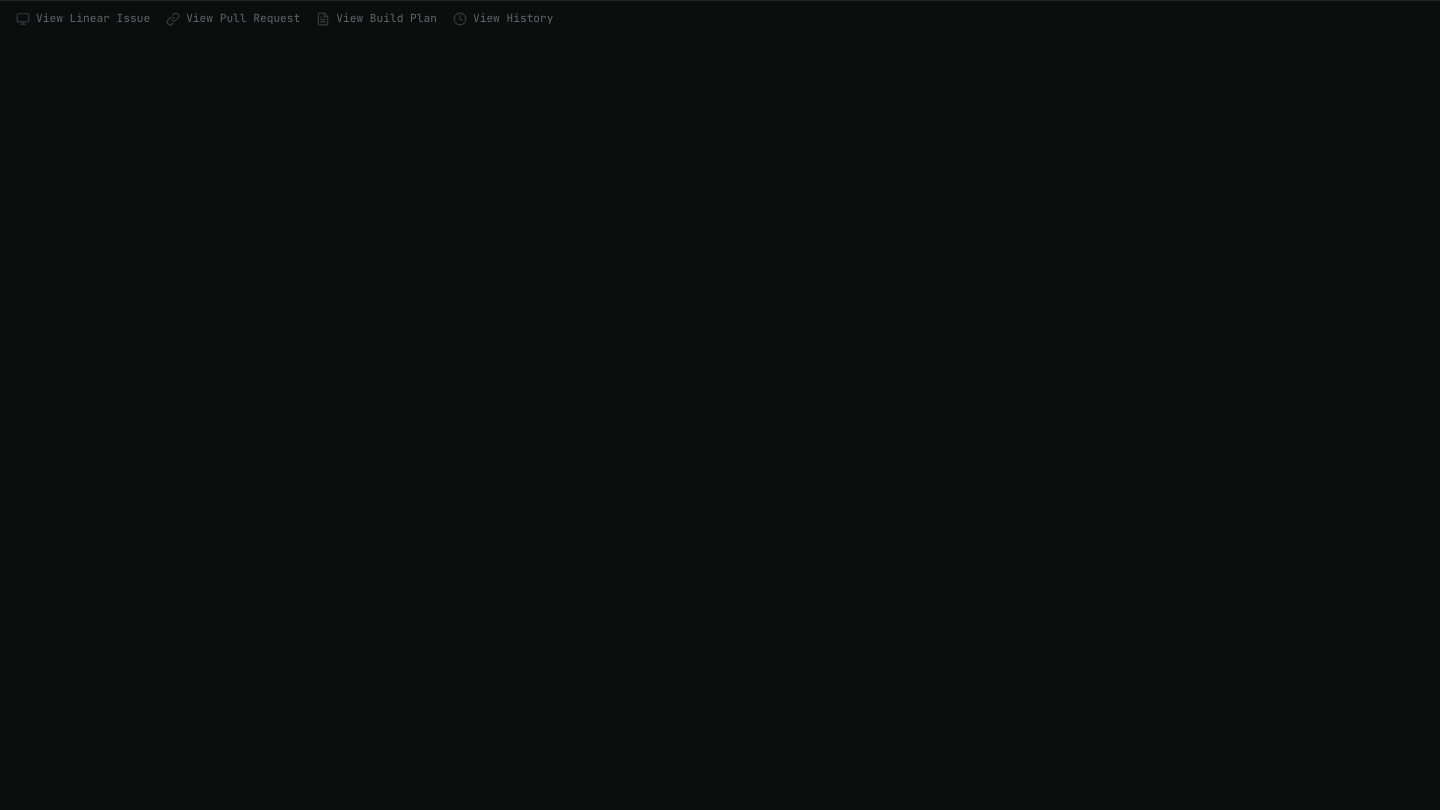
SessionArtifacts › does not show Copied! when a pending copy resolves after the modal was closed
Click the link "View Build Plan" at (377, 18), box [316,9,437,28]
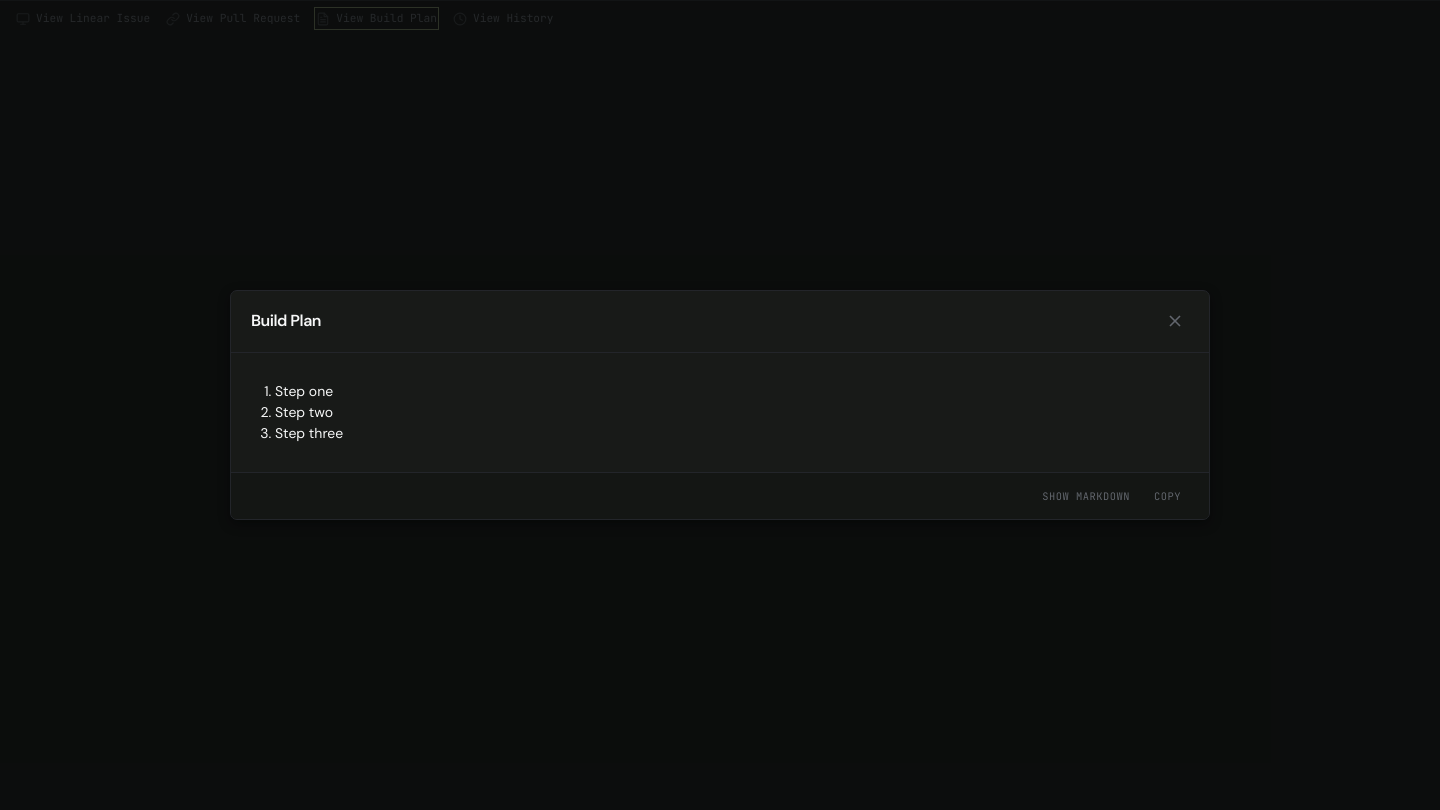
Click the button "Copy" at (1168, 496), box [1146,485,1189,507]
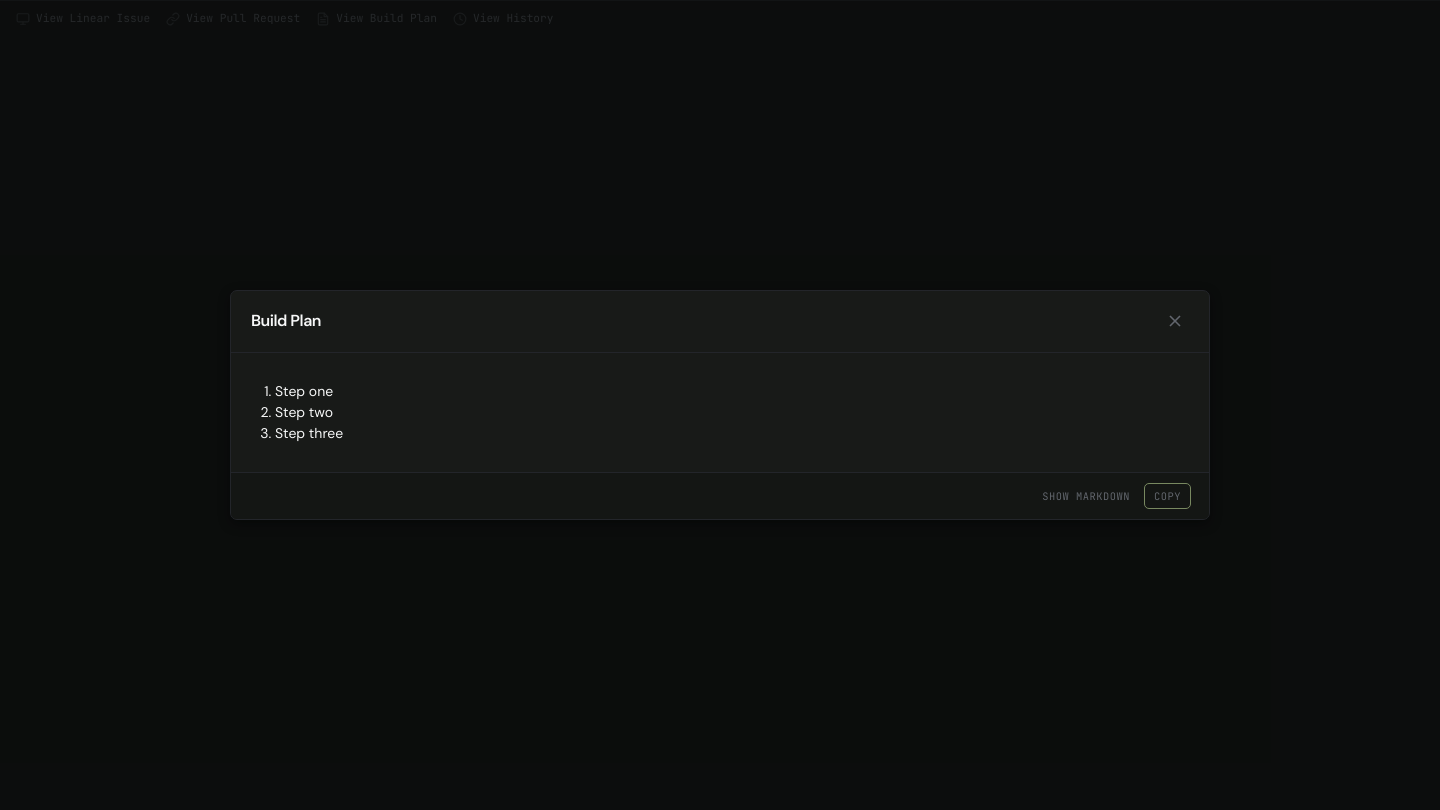
Click the button named "Close" at (1175, 322), box [1161,308,1189,336]
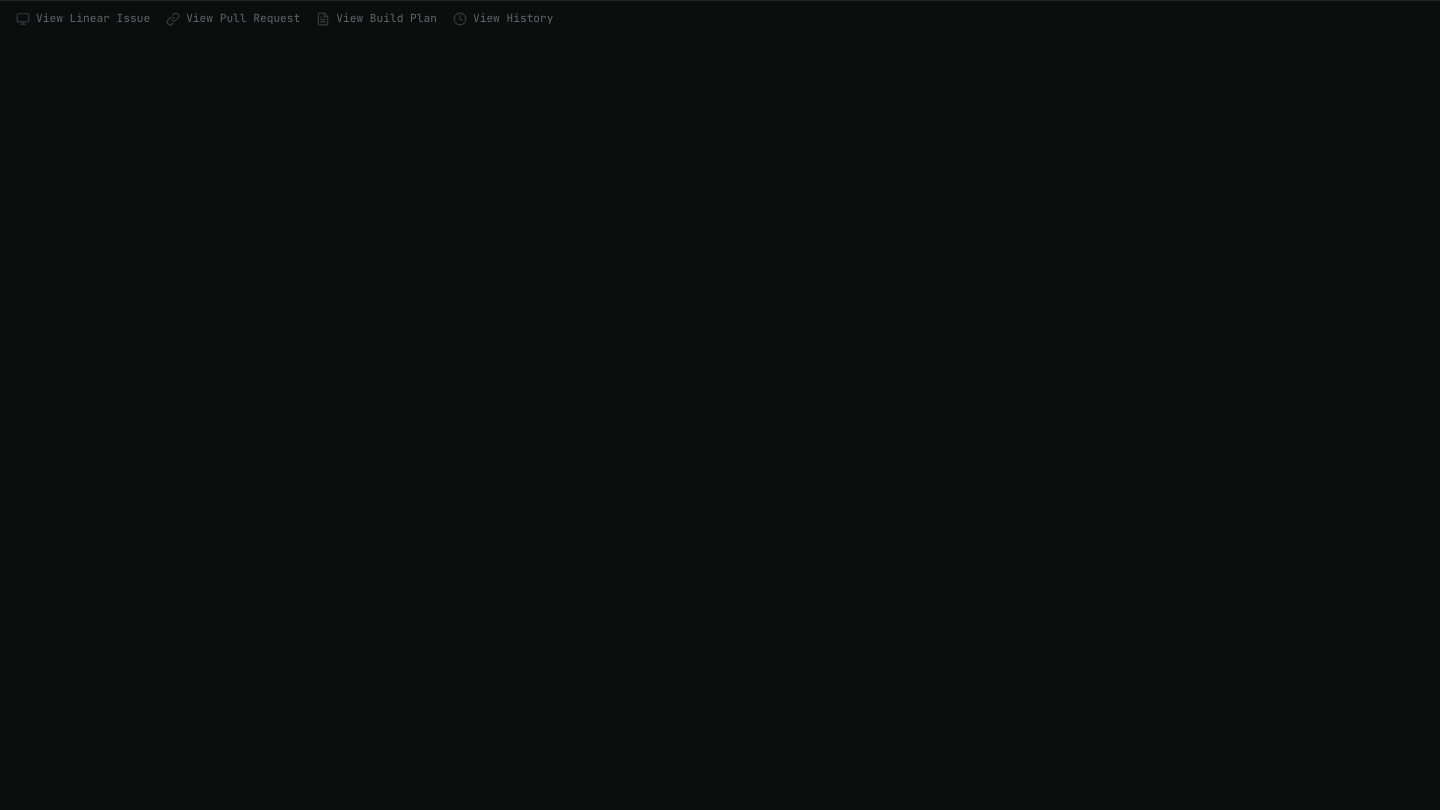
Click the link "View Build Plan" at (377, 18), box [316,9,437,28]
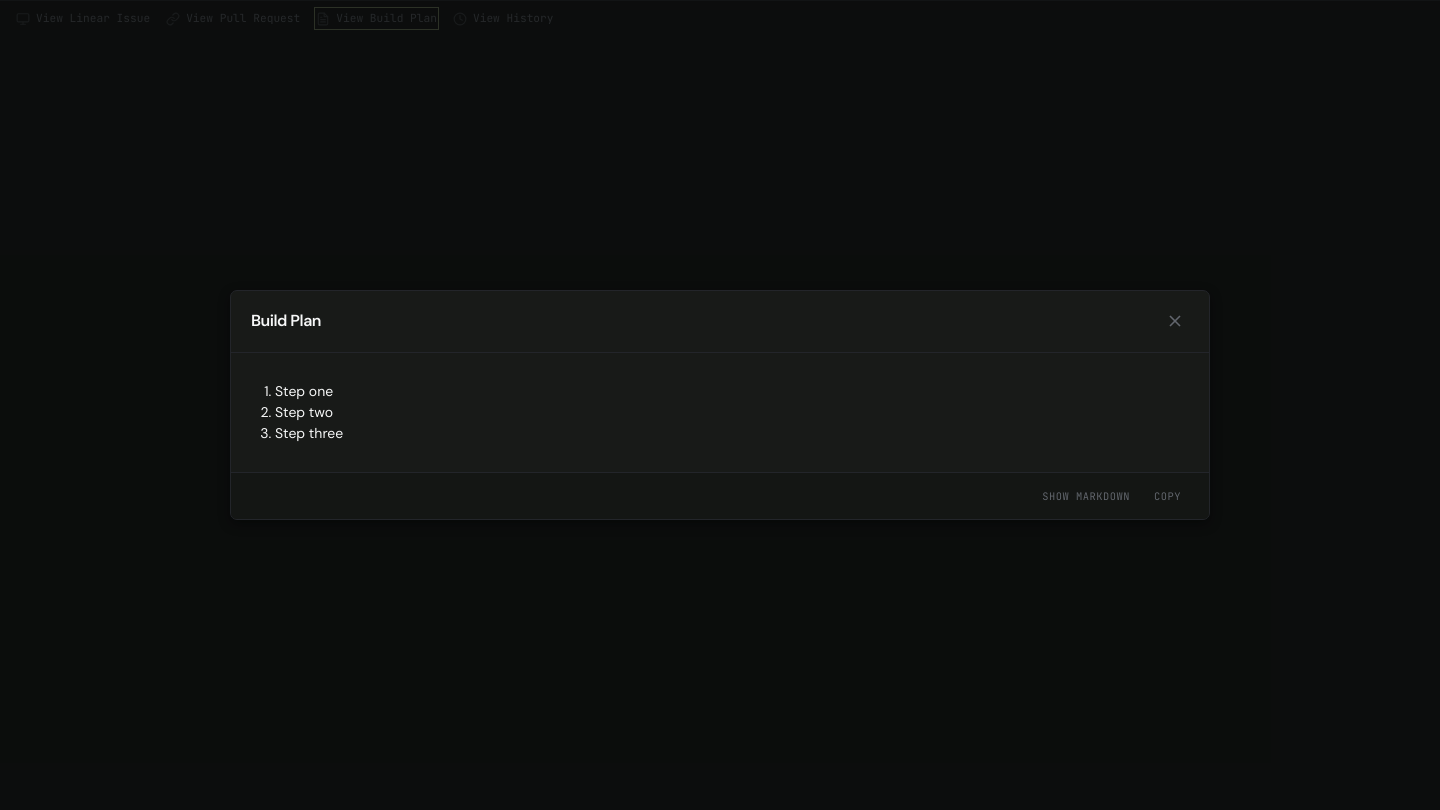
Now the button "Copy" is shown, box [1146,485,1189,507]
